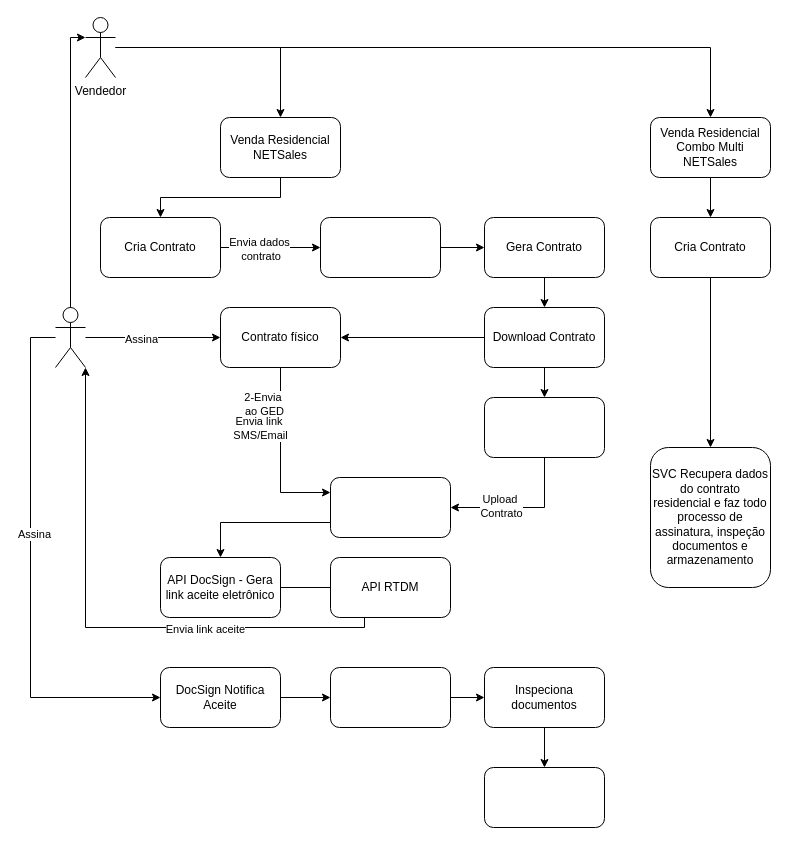
Image size: 788x845. Some labels were removed from this diagram. Each missing label, with the centre of its shape:
API ECM Armazena Documentos: the point at 544,797
API GED: the point at 390,507
Cliente: the point at 70,337
Contrato digital: the point at 544,427
DocGen: the point at 380,247
Download Documento Assinado Digitalmente: the point at 390,697
